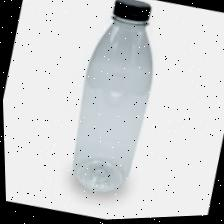plastic: (72, 2, 152, 194)
